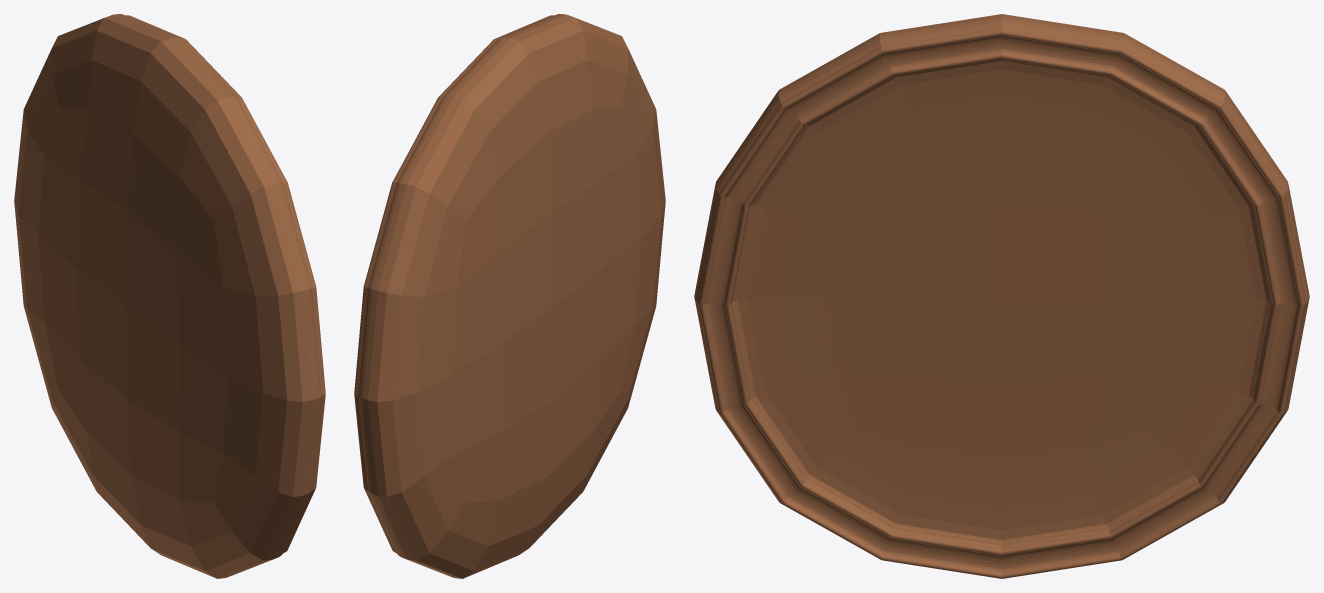
The model's file is Photo Frame2.fbx.
The picture shows the model from 3 angles, left to right: view 1: azimuth 30°, elevation 25°; view 2: azimuth 150°, elevation 25°; view 3: azimuth 270°, elevation 25°; orthographic projection. The views are drawn at different scales.
Parts seen in each view (by area): view 1: Cube.001; view 2: Cube.001; view 3: Cube.001.
Boxes of the visible parts, x1,y1,x2,y2 form: Cube.001: [14, 14, 325, 578]; Cube.001: [354, 14, 665, 578]; Cube.001: [694, 14, 1309, 578].
Size of the model in its own units: 8.47 by 68.89 by 68.89.
